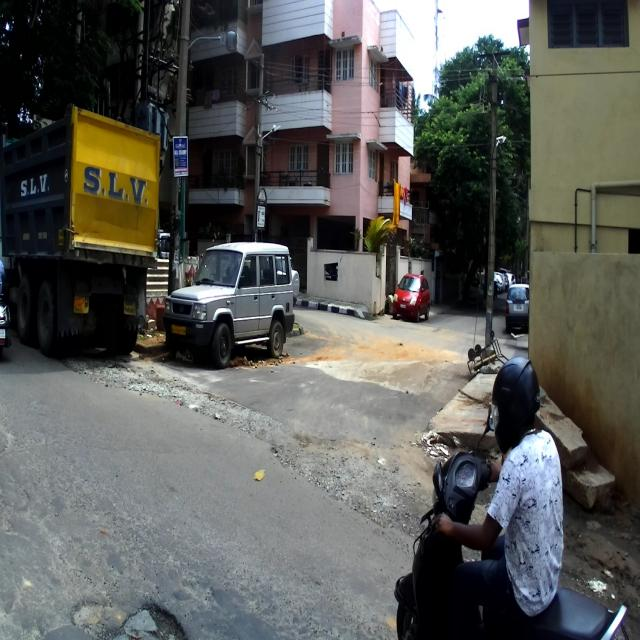Car: (392, 272, 430, 321)
Car_Hyundai: (506, 282, 530, 334)
Car_TATA: (163, 240, 295, 366)
scooter: (394, 401, 630, 638)
truck: (0, 102, 159, 354)
